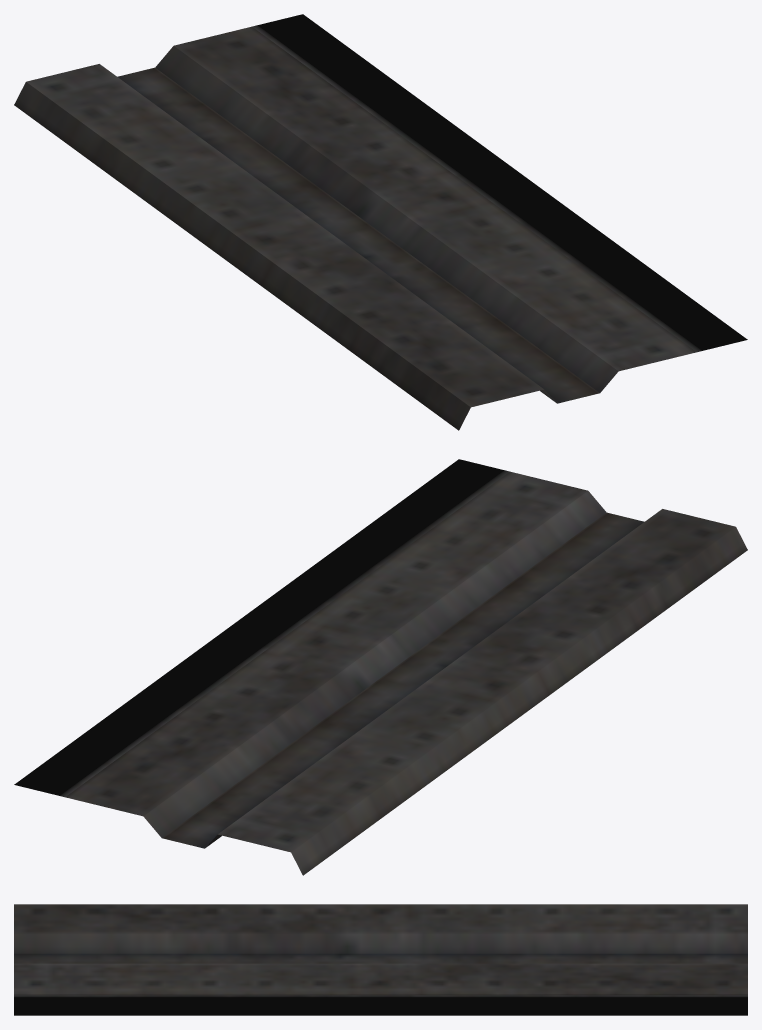
File: lab_floor_welder_tiny_noyellow.dae
3 views of the same model, one above another, from view 1: azimuth 30°, elevation 25°; view 2: azimuth 150°, elevation 25°; view 3: azimuth 270°, elevation 25° (orthographic). The views are drawn at different scales.
Visible parts, largest first — view 1: floor_welder_tiny_noyellow; view 2: floor_welder_tiny_noyellow; view 3: floor_welder_tiny_noyellow.
Boxes of the visible parts, bbox=[...] form: floor_welder_tiny_noyellow: bbox=[14, 14, 747, 430]; floor_welder_tiny_noyellow: bbox=[14, 459, 747, 875]; floor_welder_tiny_noyellow: bbox=[14, 904, 747, 1015].
Bounding box in the file's own units: 0.375 × 0.0254 × 1.
